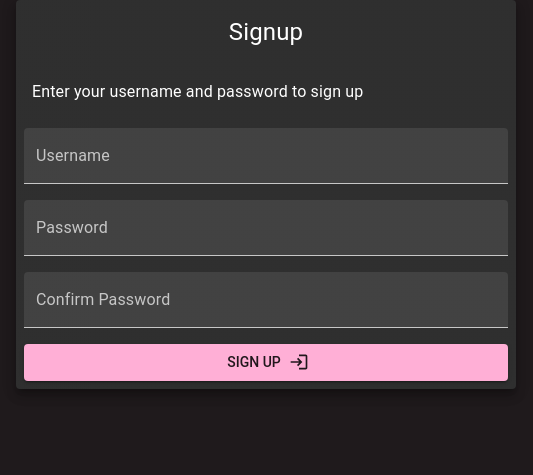
Test: Signup › gives an error when › username is too short
Note: Username too short
Type "tes" into the field labelled "Username".
click(266, 156); type("tes")  # box [24,128,508,184]
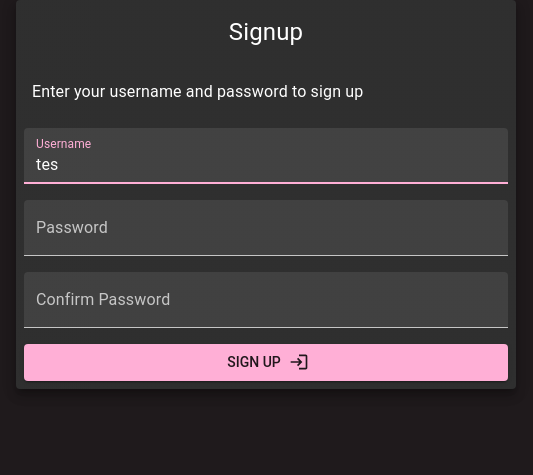
Click the button "Sign up".
click(266, 362)  # box [24,344,508,380]
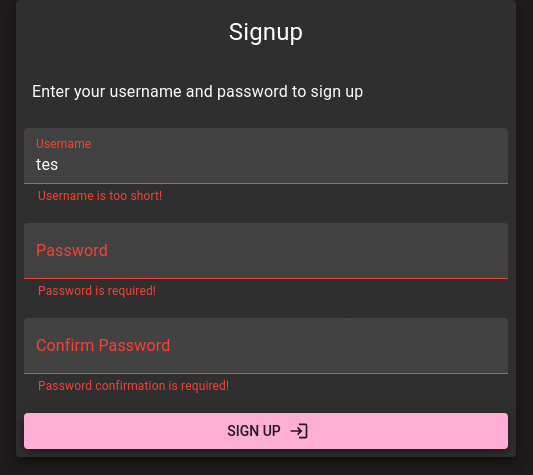
Now the text "Username is too short!" is shown, box [38,189,162,203]
